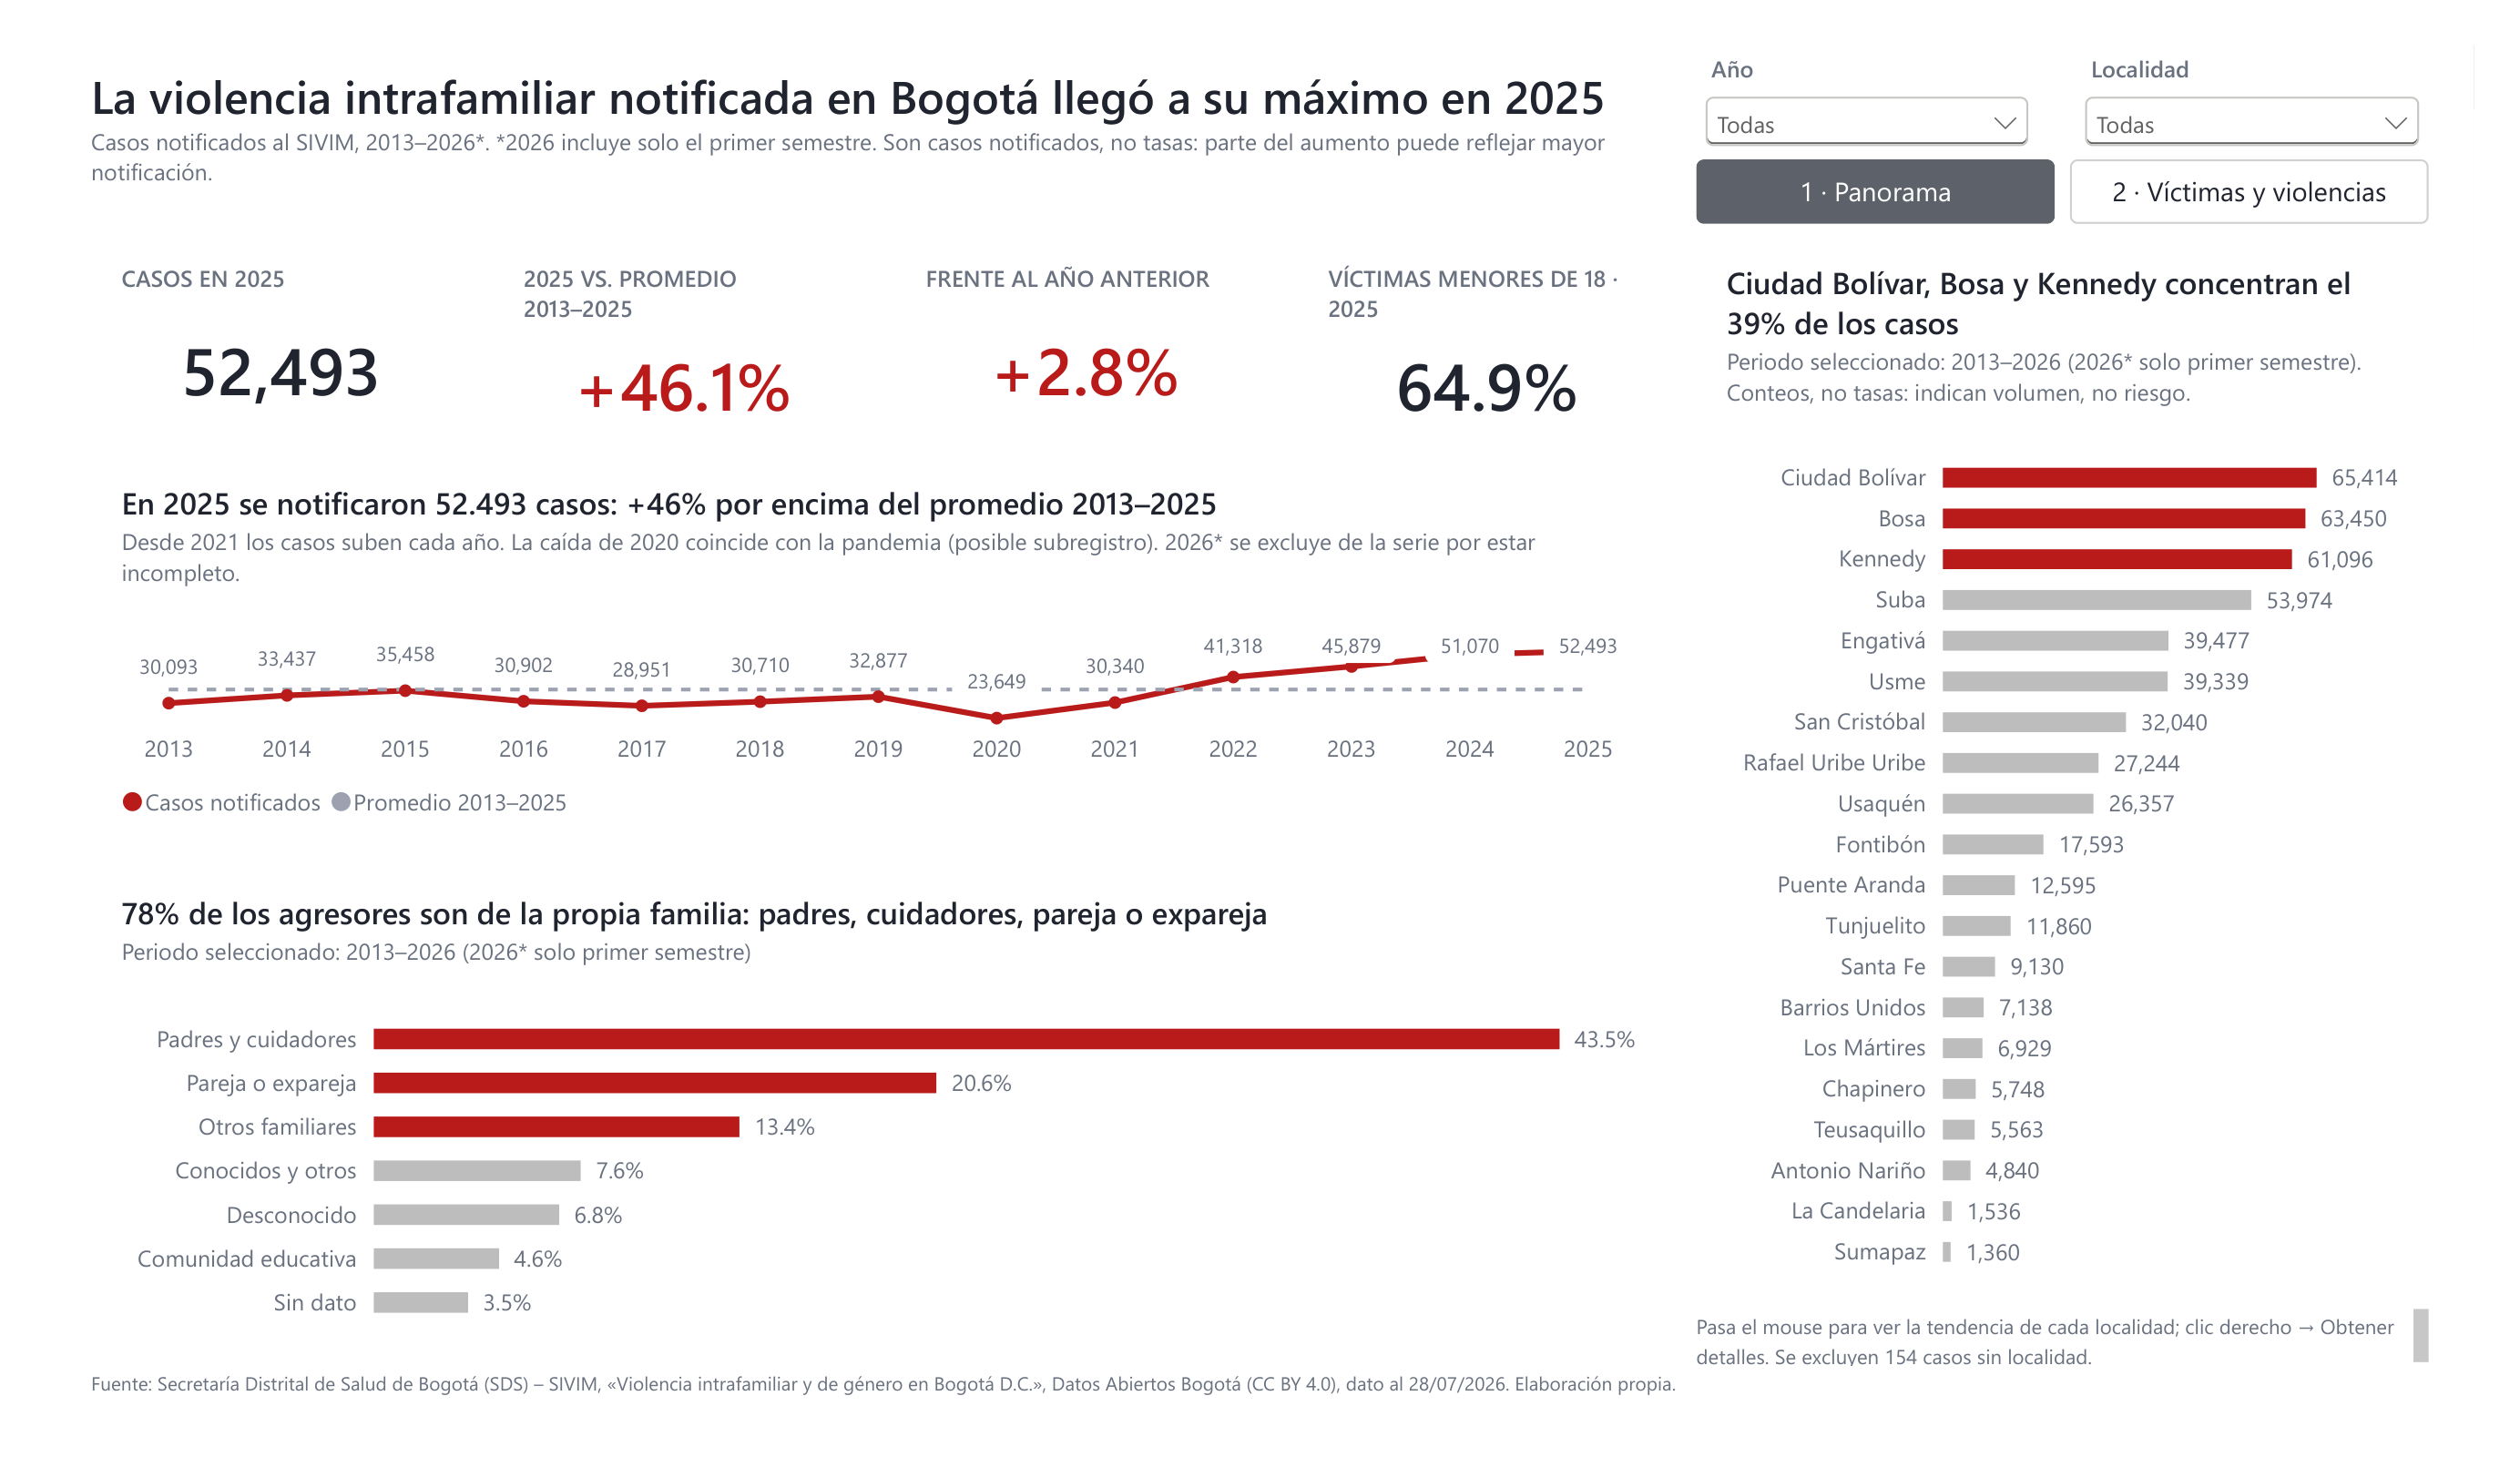

This screenshot's page, from the dashboard's own definition file:
{"tool":"powerbi","page":{"name":"1 · Panorama","canvas":[1280,720],"ordinal":0},"visuals":[{"type":"textbox","box":[24,10,830,84],"z":0},{"type":"slicer","fields":{"Values":["Dim_Anio.Año_Etiqueta"]},"box":[870,4,180,52],"z":1},{"type":"slicer","fields":{"Values":["Dim_Geografia.Localidad"]},"box":[1070,4,186,52],"z":2},{"type":"pageNavigator","box":[870,60,386,34],"z":3},{"type":"card","fields":{"Values":["_Medidas.Casos Año Referencia"]},"box":[24,100,200,112],"z":10},{"type":"card","fields":{"Values":["_Medidas.Variación % vs Promedio"]},"box":[236,100,200,112],"z":11},{"type":"card","title":"FRENTE AL AÑO ANTERIOR","fields":{"Values":["_Medidas.Variación % Interanual"]},"box":[448,100,200,112],"z":12},{"type":"card","fields":{"Values":["_Medidas.% Menores de 18 Año Ref"]},"box":[660,100,200,112],"z":13},{"type":"lineChart","fields":{"Category":["Dim_Anio.Año_Etiqueta"],"Y":["_Medidas.Total Casos","_Medidas.Promedio Anual 2013-2025"]},"box":[24,216,830,212],"z":20},{"type":"clusteredBarChart","fields":{"Category":["Dim_Relacion.Grupo_Relacion"],"Y":["_Medidas.% del Total Visible"]},"box":[24,432,830,262],"z":21},{"type":"clusteredBarChart","fields":{"Category":["Dim_Geografia.Localidad"],"Y":["_Medidas.Total Casos"]},"box":[870,100,386,566],"z":22},{"type":"textbox","box":[870,666,386,30],"z":23},{"type":"textbox","box":[24,696,1232,22],"z":90}]}

Visuals, with their boxes on the page's 1280x720 design canvas (x1, y1, x2, y2). These are canvas units, not pixel positions in the 2520x1457 screenshot, which may show the page scaled, cropped or inside an application window:
textbox: (x1=24, y1=10, x2=854, y2=94)
slicer - Dim_Anio.Año_Etiqueta: (x1=870, y1=4, x2=1050, y2=56)
slicer - Dim_Geografia.Localidad: (x1=1070, y1=4, x2=1256, y2=56)
pageNavigator: (x1=870, y1=60, x2=1256, y2=94)
card - _Medidas.Casos Año Referencia: (x1=24, y1=100, x2=224, y2=212)
card - _Medidas.Variación % vs Promedio: (x1=236, y1=100, x2=436, y2=212)
"FRENTE AL AÑO ANTERIOR" card: (x1=448, y1=100, x2=648, y2=212)
card - _Medidas.% Menores de 18 Año Ref: (x1=660, y1=100, x2=860, y2=212)
lineChart - Dim_Anio.Año_Etiqueta x _Medidas.Total Casos: (x1=24, y1=216, x2=854, y2=428)
clusteredBarChart - Dim_Relacion.Grupo_Relacion x _Medidas.% del Total Visible: (x1=24, y1=432, x2=854, y2=694)
clusteredBarChart - Dim_Geografia.Localidad x _Medidas.Total Casos: (x1=870, y1=100, x2=1256, y2=666)
textbox: (x1=870, y1=666, x2=1256, y2=696)
textbox: (x1=24, y1=696, x2=1256, y2=718)
